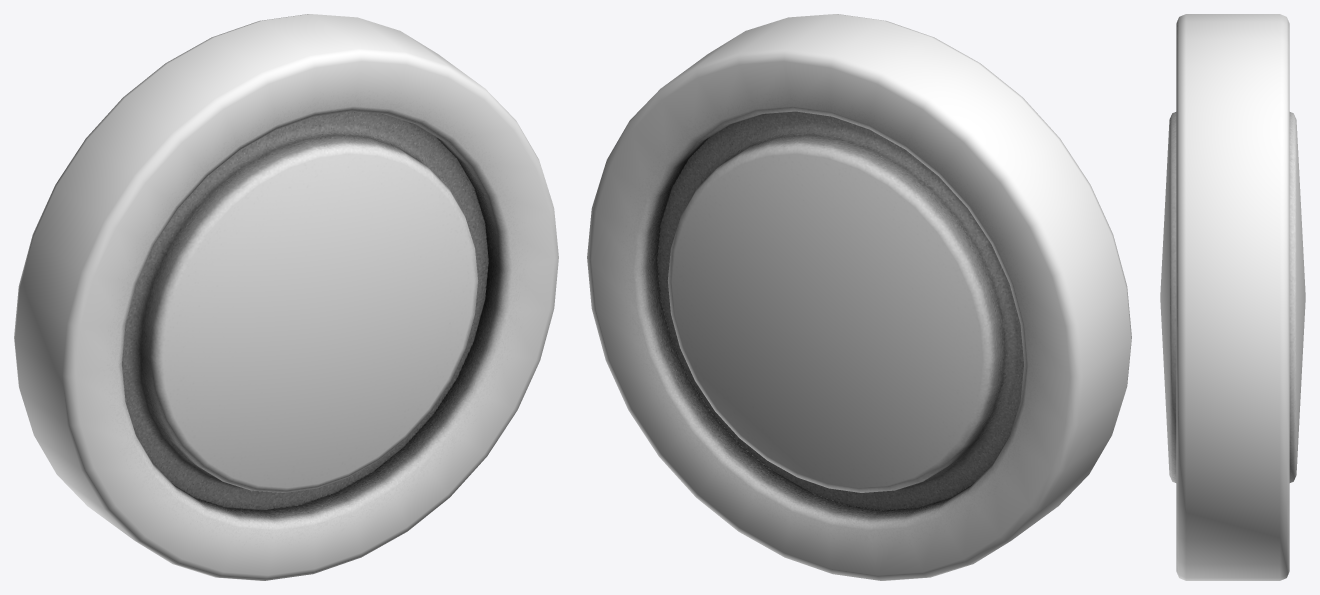
Rendered from Coin.fbx.
The picture shows the model from 3 angles, left to right: view 1: azimuth 30°, elevation 25°; view 2: azimuth 150°, elevation 25°; view 3: azimuth 270°, elevation 25°; orthographic projection.
Parts seen in each view (by area): view 1: Coin; view 2: Coin; view 3: Coin.
Boxes of the visible parts, bbox=[...] form: Coin: bbox=[14, 14, 558, 580]; Coin: bbox=[587, 14, 1131, 580]; Coin: bbox=[1160, 14, 1305, 580].
Bounding box in the file's own units: 60 × 60 × 15.39.
